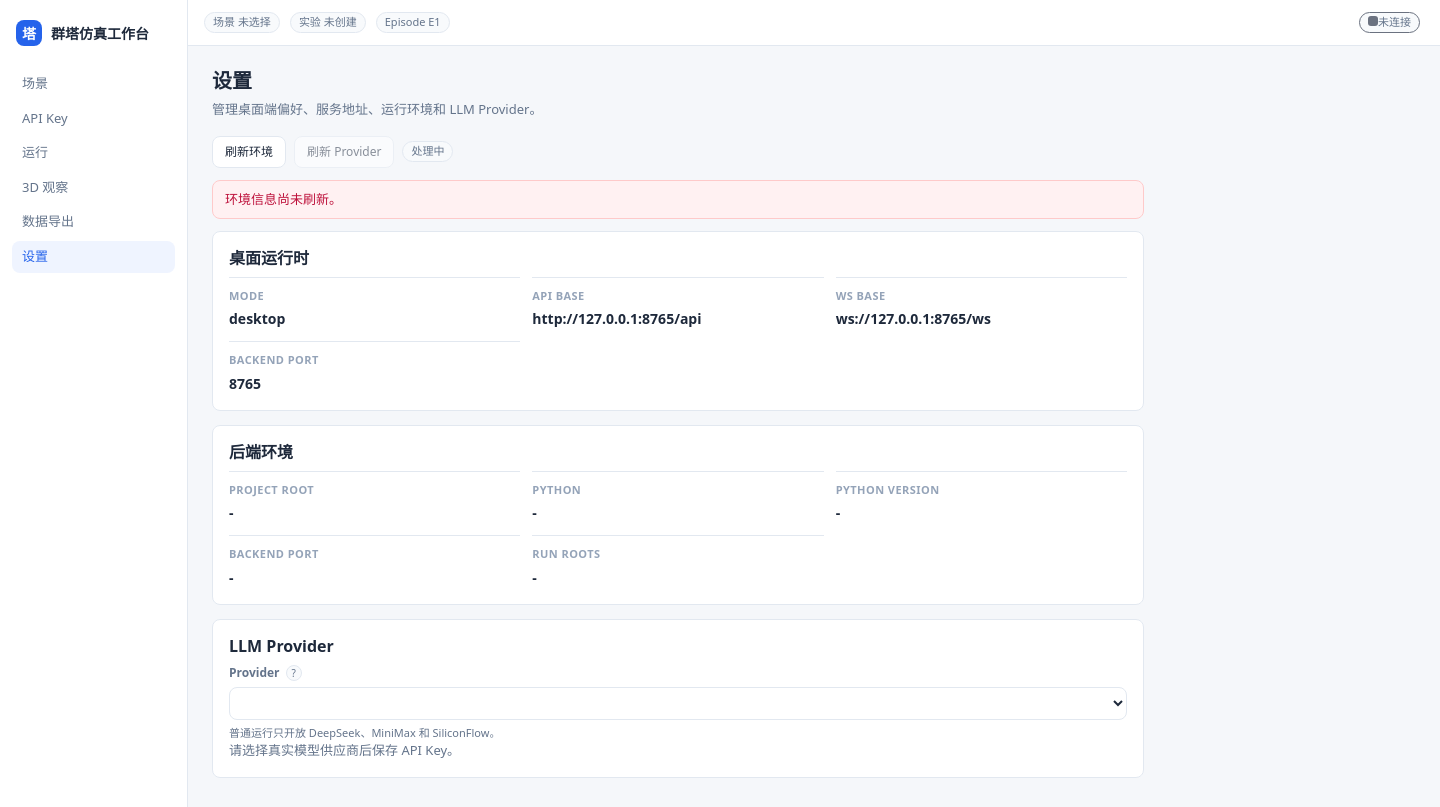
it: workbench data export and settings pages › shows runtime and backend environment details
Click the button "刷新环境": (249, 152) [212,136,286,168]
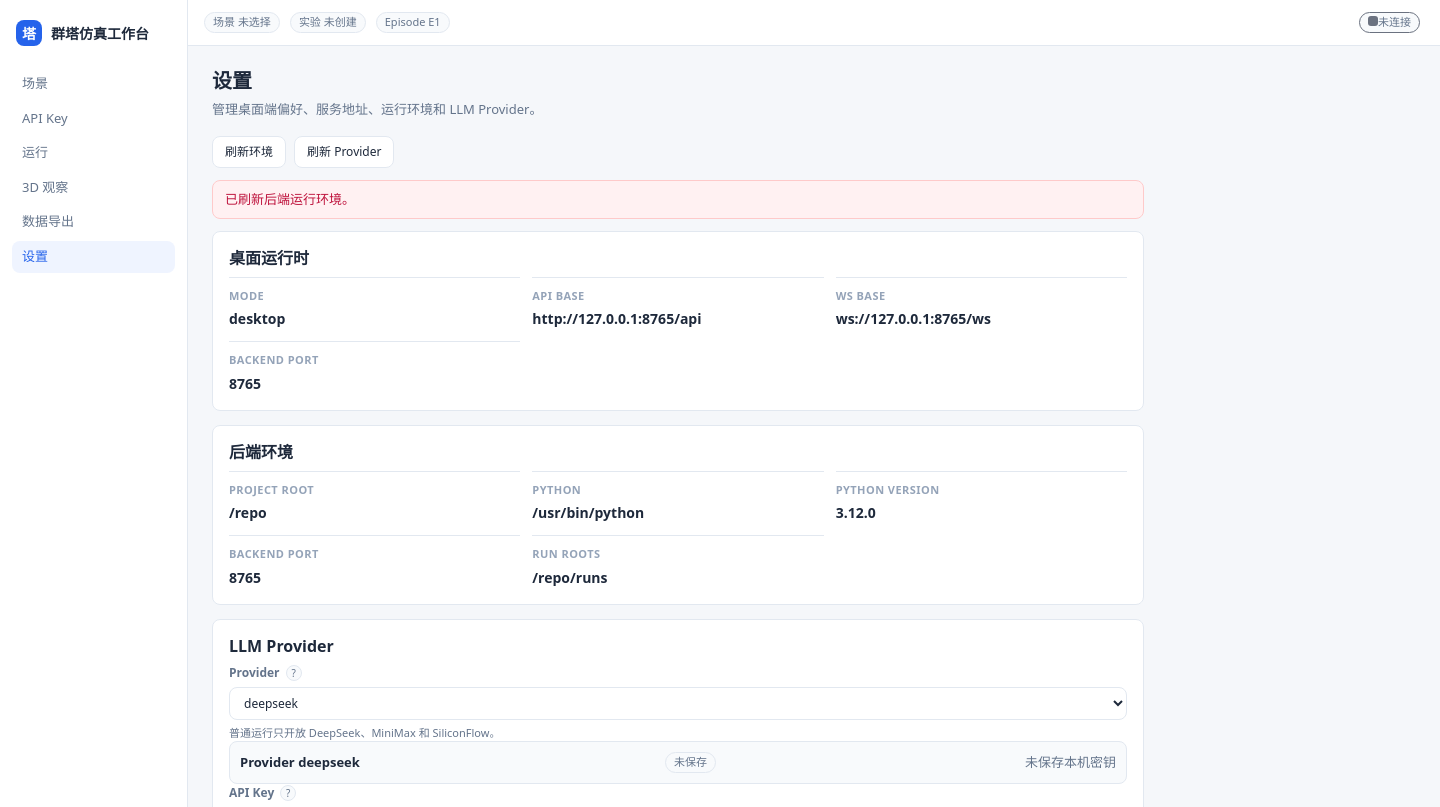
Check: the text "8765" below "desktop" is shown, box [229,374,261,393]
Check: the text "/repo" is shown, box [229,503,267,522]
